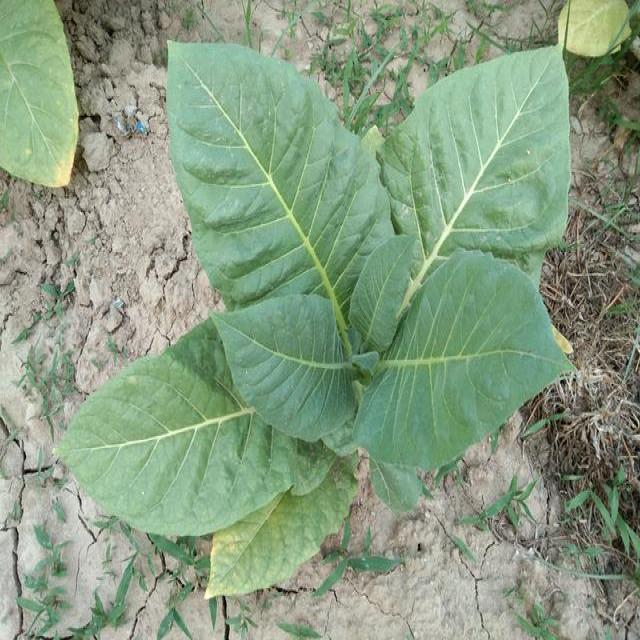crop: (76, 46, 574, 590), (0, 0, 90, 183)
